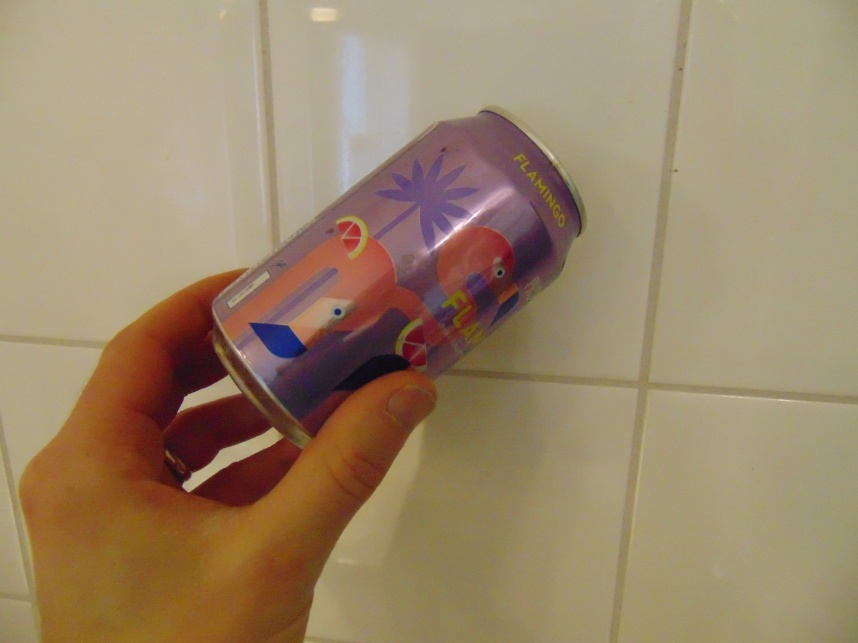metal_can: (208, 103, 591, 450)
